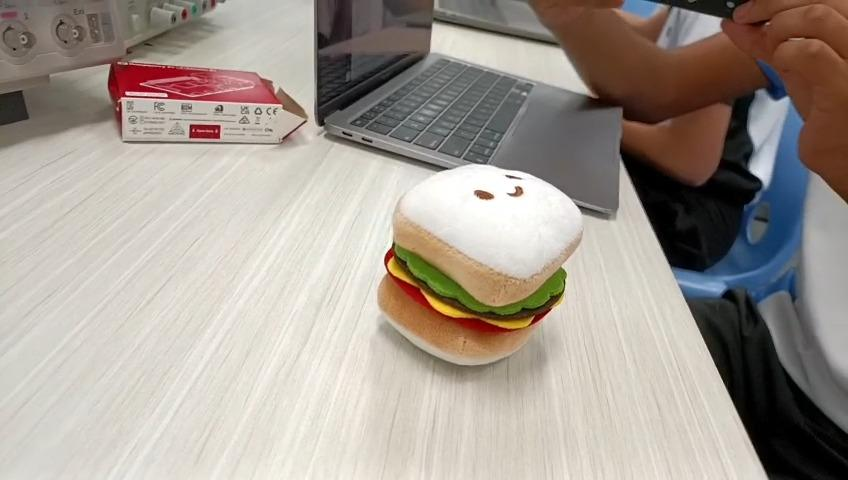objects: (376, 163, 588, 370)
